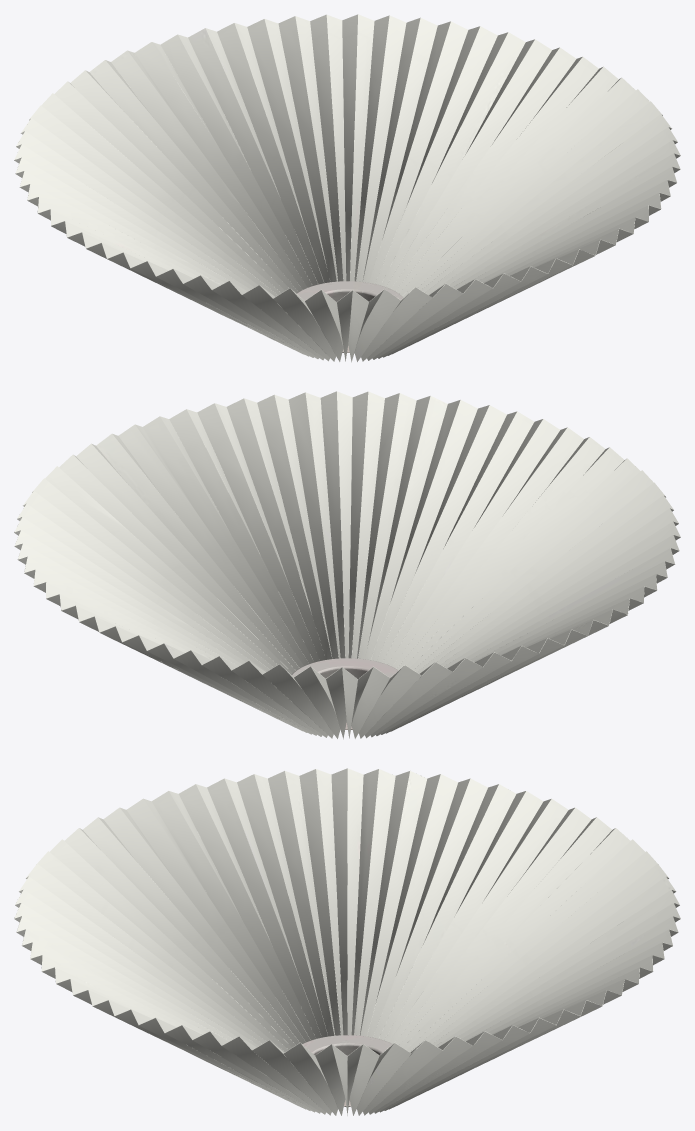
The picture shows the model from 3 angles, top to bottom: view 1: azimuth 30°, elevation 25°; view 2: azimuth 150°, elevation 25°; view 3: azimuth 270°, elevation 25°; orthographic projection.
Visible parts, largest first — view 1: 80601050-KUDDLAVA001; view 2: 80601050-KUDDLAVA001; view 3: 80601050-KUDDLAVA001.
Boxes of the visible parts, x1=… form: 80601050-KUDDLAVA001: x1=14, y1=14, x2=680, y2=362; 80601050-KUDDLAVA001: x1=14, y1=391, x2=680, y2=739; 80601050-KUDDLAVA001: x1=14, y1=768, x2=680, y2=1115.
Size of the model in its own units: 0.5939 by 0.1823 by 0.594.
1 material, 1 textured.
